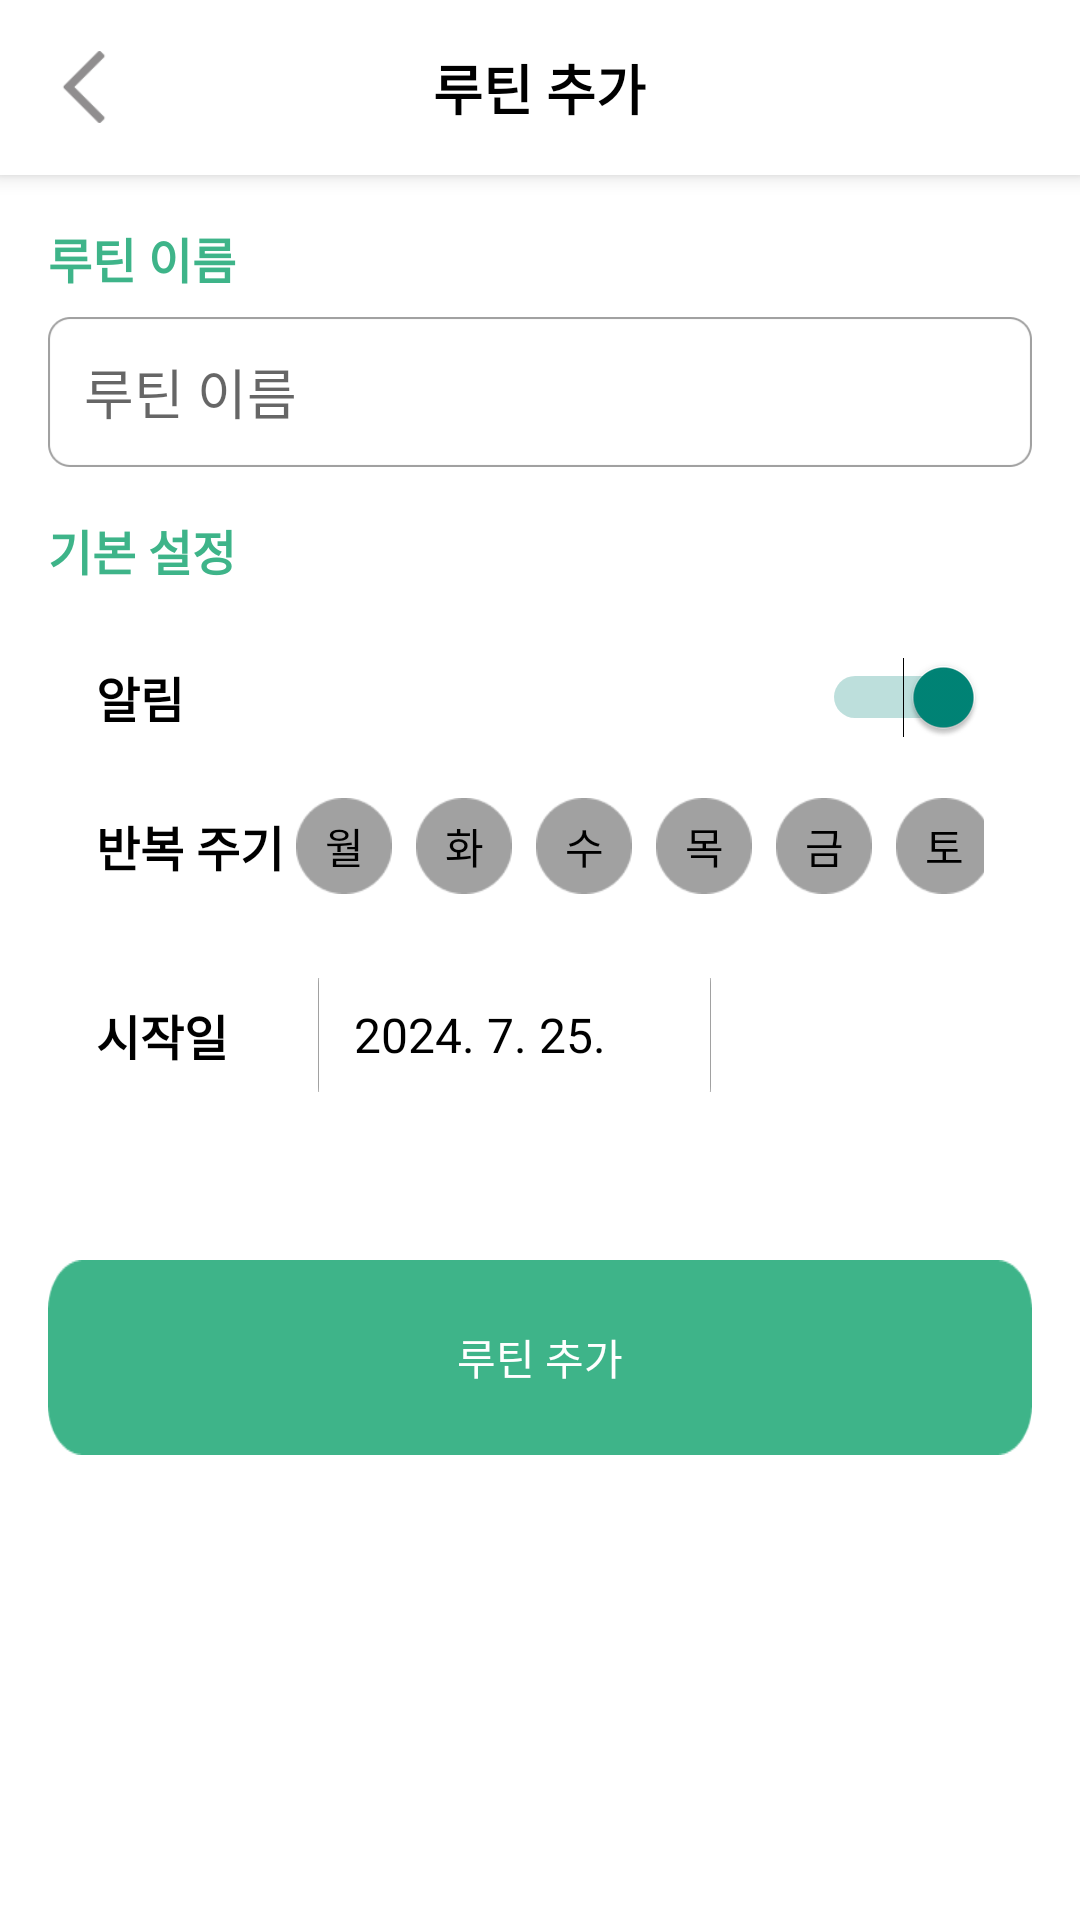

Where icons sit on this 1080w x 1920h app screen, as (x1, y1, x2, y2):
뒤로가기: (63, 51, 105, 123)
